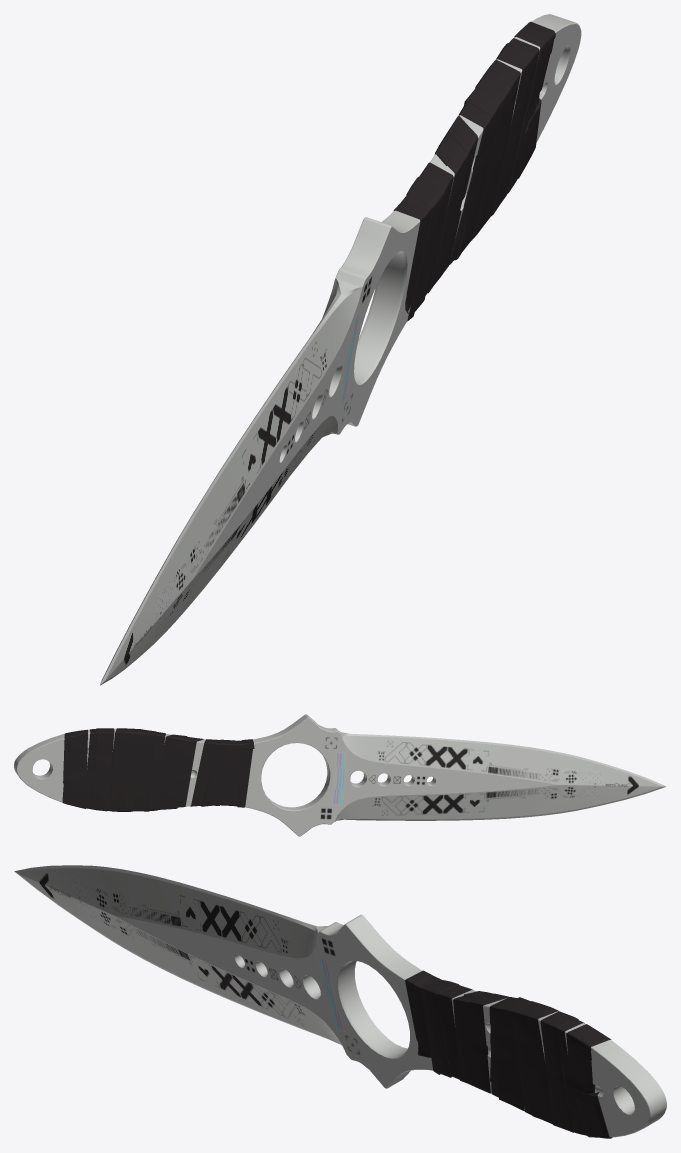
The model's file is Skeleton_Knife_Printstream.gltf.
3 renders of one model, top to bottom at view 1: azimuth 30°, elevation 25°; view 2: azimuth 150°, elevation 25°; view 3: azimuth 270°, elevation 25°, orthographic. The views are drawn at different scales.
Parts seen in each view (by area): view 1: GeometryNode_3; view 2: GeometryNode_3; view 3: GeometryNode_3.
Boxes of the visible parts, <box> form: GeometryNode_3: <box>100,14,581,685</box>; GeometryNode_3: <box>14,714,666,836</box>; GeometryNode_3: <box>14,865,666,1138</box>.
Size of the model in its own units: 9.9 by 2.39 by 8.13.
Materials: 1 (1 with a texture image).
